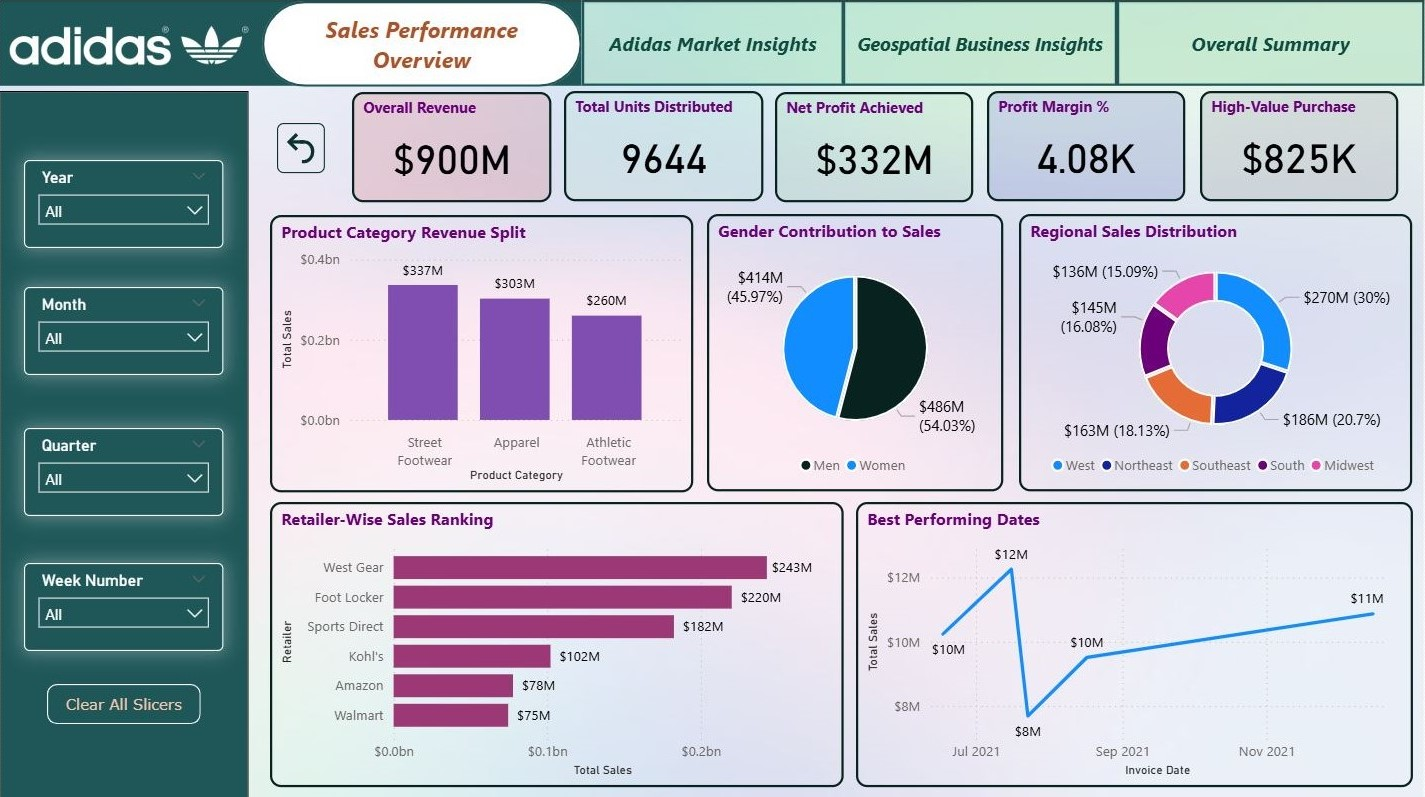

Layout of this report page (visuals, bound fields, positions):
{"tool":"powerbi","page":{"name":"Sales Performance Overview","canvas":[1280,720],"ordinal":0},"visuals":[{"type":"card","title":"Overall Revenue","fields":{"Values":["Sum(Sales_details.Total Sales)"]},"box":[317,83,179,99],"z":0},{"type":"shape","box":[0,82,224,638],"z":1000},{"type":"shape","box":[0,0,523,77],"z":2000},{"type":"shape","box":[236,1,287,77],"z":3000},{"type":"card","title":"Total Units Distributed","fields":{"Values":["CountNonNull(Sales_details.Units Sold)"]},"box":[507,82,179,99],"z":4000},{"type":"card","title":"Net Profit Achieved","fields":{"Values":["Sum(Sales_details.Operating Profit)"]},"box":[697,83,178,99],"z":5000},{"type":"card","title":"Profit Margin %","fields":{"Values":["Sum(Sales_details.Operating Margin)"]},"box":[887,82,178,99],"z":6000},{"type":"card","title":"High-Value Purchase","fields":{"Values":["Max(Sales_details.Total Sales)"]},"box":[1078,82,178,99],"z":7000},{"type":"shape","box":[1004,0,276,77],"z":8000},{"type":"image","box":[0,7,233,65],"z":9000},{"type":"slicer","fields":{"Values":["Date Table.Year"]},"box":[22,144,179,79],"z":10000},{"type":"slicer","fields":{"Values":["Date Table.Month"]},"box":[22,258,179,79],"z":11000},{"type":"slicer","fields":{"Values":["Date Table.Quarter"]},"box":[22,384,179,79],"z":12000},{"type":"slicer","fields":{"Values":["Date Table.Week Number"]},"box":[22,505,179,79],"z":13000},{"type":"actionButton","title":"Clear Selection","box":[43,614,138,36],"z":14000},{"type":"columnChart","title":"Product Category Revenue Split","fields":{"Category":["Sales_details.Product Category"],"Y":["Sum(Sales_details.Total Sales)"]},"box":[243,193,380,249],"z":15000},{"type":"pieChart","title":"Gender Contribution to Sales","fields":{"Y":["Sum(Sales_details.Total Sales)"],"Category":["Sales_details.Gender Type"]},"box":[636,192,266,249],"z":16000},{"type":"donutChart","title":"Regional Sales Distribution","fields":{"Y":["Sum(Sales_details.Total Sales)"],"Category":["Sales_details.Region"]},"box":[916,192,353,249],"z":17000},{"type":"barChart","title":"Retailer-Wise Sales Ranking","fields":{"Category":["Sales_details.Retailer"],"Y":["Sum(Sales_details.Total Sales)"]},"box":[243,451,515,256],"z":18000},{"type":"actionButton","box":[250,110,43,45],"z":19000},{"type":"shape","box":[758,0,246,77],"z":20000},{"type":"shape","box":[523,0,235,77],"z":21000},{"type":"lineChart","title":"Best Performing Dates","fields":{"Category":["Sales_details.Invoice Date Hierarchy.Invoice Date"],"Y":["Sum(Sales_details.Total Sales)"]},"box":[769,451,500,256],"z":23000}]}

Visuals, with their boxes in screenshot pixels (x1, y1, x2, y2), scaled from the page's 1280x720 canvas onto the 1425x797 screenshot:
"Overall Revenue" card: Rect(353, 92, 552, 201)
shape: Rect(0, 91, 249, 796)
shape: Rect(0, 0, 582, 85)
shape: Rect(263, 1, 582, 86)
"Total Units Distributed" card: Rect(564, 91, 764, 200)
"Net Profit Achieved" card: Rect(776, 92, 974, 201)
"Profit Margin %" card: Rect(987, 91, 1186, 200)
"High-Value Purchase" card: Rect(1200, 91, 1398, 200)
shape: Rect(1118, 0, 1424, 85)
image: Rect(0, 8, 259, 80)
slicer - Date Table.Year: Rect(24, 159, 224, 247)
slicer - Date Table.Month: Rect(24, 286, 224, 373)
slicer - Date Table.Quarter: Rect(24, 425, 224, 513)
slicer - Date Table.Week Number: Rect(24, 559, 224, 646)
"Clear Selection" actionButton: Rect(48, 680, 202, 720)
"Product Category Revenue Split" columnChart: Rect(271, 214, 694, 489)
"Gender Contribution to Sales" pieChart: Rect(708, 213, 1004, 488)
"Regional Sales Distribution" donutChart: Rect(1020, 213, 1413, 488)
"Retailer-Wise Sales Ranking" barChart: Rect(271, 499, 844, 783)
actionButton: Rect(278, 122, 326, 172)
shape: Rect(844, 0, 1118, 85)
shape: Rect(582, 0, 844, 85)
"Best Performing Dates" lineChart: Rect(856, 499, 1413, 783)
